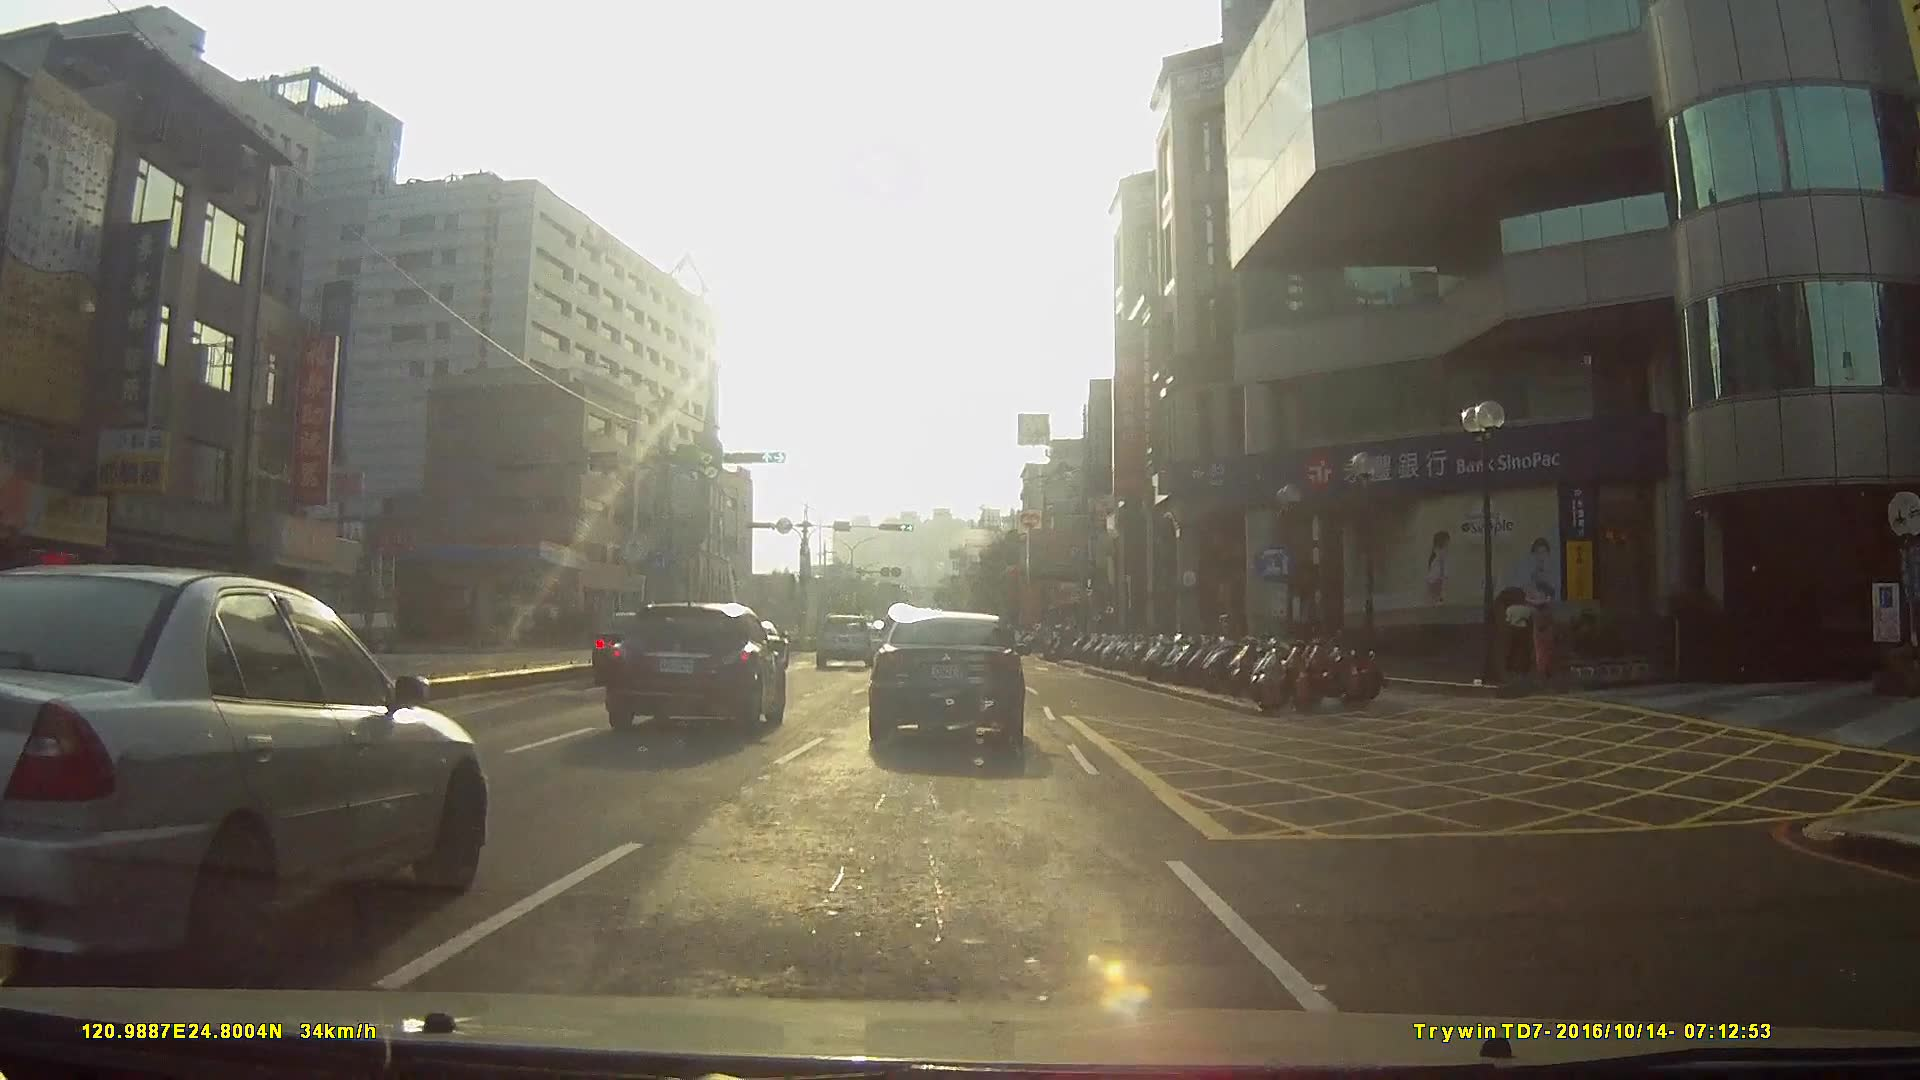pedestrian: (1529, 587, 1566, 680), (1502, 586, 1541, 675)
vehicle: (0, 554, 478, 993), (601, 592, 782, 731), (865, 609, 1024, 750), (587, 609, 684, 687), (809, 607, 871, 664)
